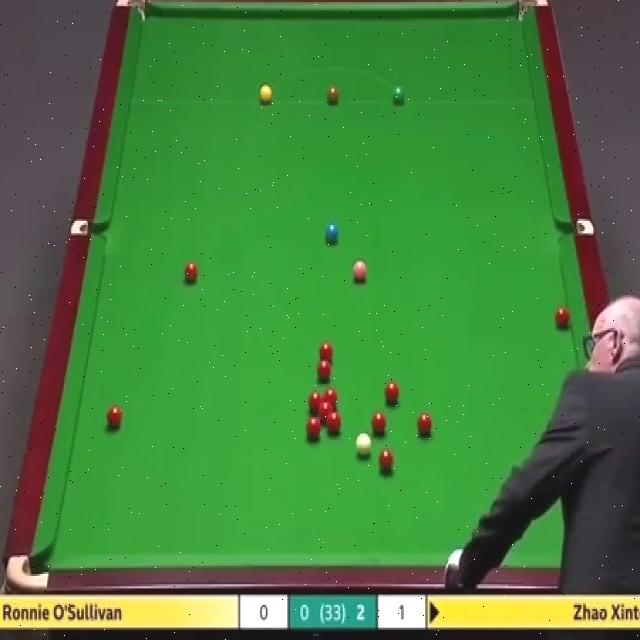blue-ball: (324, 222, 339, 245)
brown-ball: (327, 84, 339, 105)
green-ball: (391, 84, 405, 105)
pink-ball: (350, 258, 369, 280)
red-ball: (384, 380, 401, 406), (376, 446, 393, 472), (182, 262, 200, 286), (106, 404, 123, 429), (370, 412, 387, 437), (416, 413, 433, 438), (554, 306, 570, 330), (322, 387, 339, 408), (326, 413, 341, 436), (306, 418, 321, 440), (317, 360, 332, 382), (308, 394, 324, 414), (317, 346, 333, 364), (318, 402, 332, 421)
white-ball: (354, 434, 372, 460)
yellow-ball: (260, 85, 272, 105)
